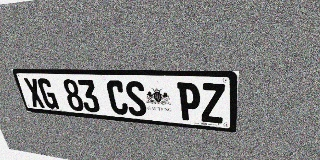3: (77, 79, 101, 113)
8: (61, 79, 85, 111)
C: (105, 80, 129, 115)
G: (36, 78, 59, 109)
P: (177, 82, 201, 122)
S: (124, 81, 148, 117)
X: (23, 78, 46, 108)
Z: (201, 83, 225, 124)
